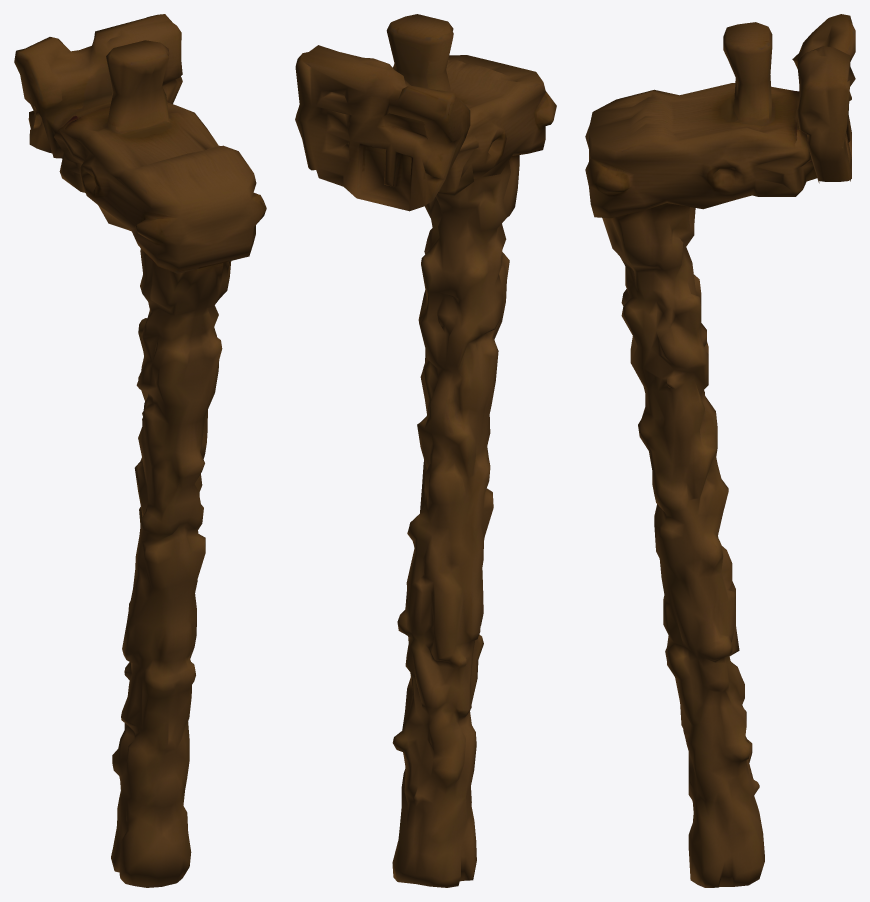
File: gatewatch_baton.glb
3 renders of one model, left to right at view 1: azimuth 30°, elevation 25°; view 2: azimuth 150°, elevation 25°; view 3: azimuth 270°, elevation 25°, orthographic. The views are drawn at different scales.
Visible parts, largest first — view 1: base_model_path; view 2: base_model_path; view 3: base_model_path.
Boxes of the visible parts, x1=… form: base_model_path: x1=14, y1=14, x2=266, y2=887; base_model_path: x1=295, y1=14, x2=556, y2=887; base_model_path: x1=585, y1=14, x2=855, y2=887.
Bounding box in the file's own units: 0.1976 × 0.9998 × 0.2915.
1 material, 1 textured.
